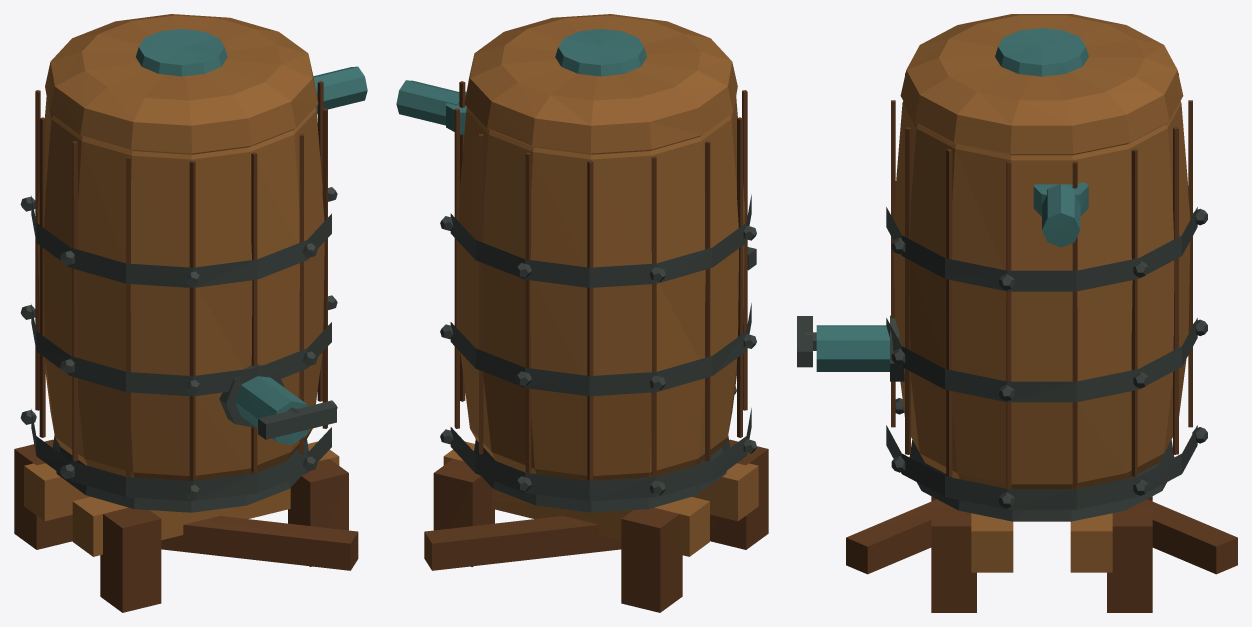
File: Rain-Barrel.glb
3 views of the same model, side by side, from view 1: azimuth 30°, elevation 25°; view 2: azimuth 150°, elevation 25°; view 3: azimuth 270°, elevation 25° (orthographic). The views are drawn at different scales.
Visible parts, largest first — view 1: rain-barrel-static-rain-barrel-aged-wood-mat, rain-barrel-static-rain-barrel-end-grain-mat, rain-barrel-static-rain-barrel-dark-iron-mat, rain-barrel-static-rain-barrel-muted-teal-fitting-mat; view 2: rain-barrel-static-rain-barrel-aged-wood-mat, rain-barrel-static-rain-barrel-end-grain-mat, rain-barrel-static-rain-barrel-dark-iron-mat, rain-barrel-static-rain-barrel-muted-teal-fitting-mat; view 3: rain-barrel-static-rain-barrel-aged-wood-mat, rain-barrel-static-rain-barrel-end-grain-mat, rain-barrel-static-rain-barrel-dark-iron-mat, rain-barrel-static-rain-barrel-muted-teal-fitting-mat.
Part boxes in pixels (left/top/right/bottom): rain-barrel-static-rain-barrel-aged-wood-mat: left=24, top=14, right=339, bottom=556; rain-barrel-static-rain-barrel-end-grain-mat: left=14, top=81, right=358, bottom=612; rain-barrel-static-rain-barrel-dark-iron-mat: left=20, top=187, right=337, bottom=512; rain-barrel-static-rain-barrel-muted-teal-fitting-mat: left=136, top=29, right=367, bottom=444; rain-barrel-static-rain-barrel-aged-wood-mat: left=443, top=14, right=758, bottom=556; rain-barrel-static-rain-barrel-end-grain-mat: left=424, top=81, right=768, bottom=612; rain-barrel-static-rain-barrel-dark-iron-mat: left=440, top=194, right=756, bottom=512; rain-barrel-static-rain-barrel-muted-teal-fitting-mat: left=396, top=29, right=646, bottom=134; rain-barrel-static-rain-barrel-aged-wood-mat: left=893, top=14, right=1190, bottom=572; rain-barrel-static-rain-barrel-end-grain-mat: left=846, top=73, right=1237, bottom=612; rain-barrel-static-rain-barrel-dark-iron-mat: left=797, top=181, right=1207, bottom=521; rain-barrel-static-rain-barrel-muted-teal-fitting-mat: left=816, top=28, right=1088, bottom=371.
Bounding box in the file's own units: 0.9992 × 1.47 × 1.15.
